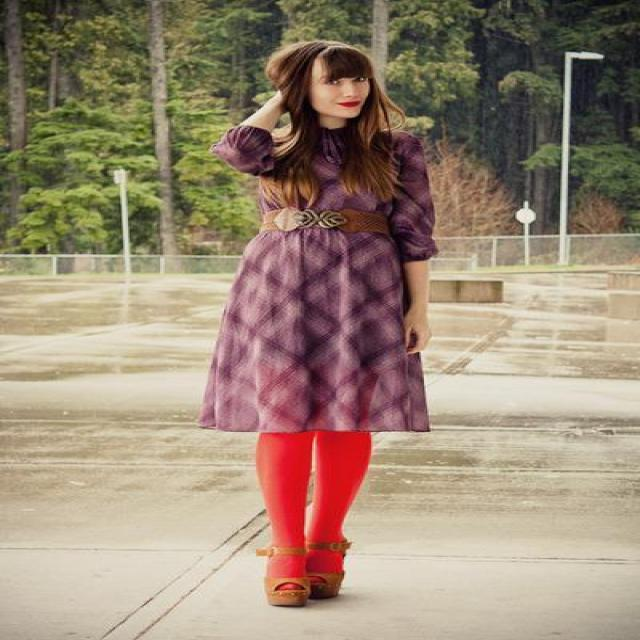dress: (198, 127, 437, 436)
shoe: (264, 562, 342, 608)
